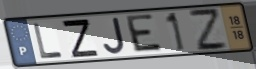1: (164, 11, 187, 52)
E: (125, 13, 166, 54)
J: (102, 17, 128, 56)
L: (32, 22, 66, 60)
Z: (186, 9, 230, 53), (59, 18, 101, 59)
